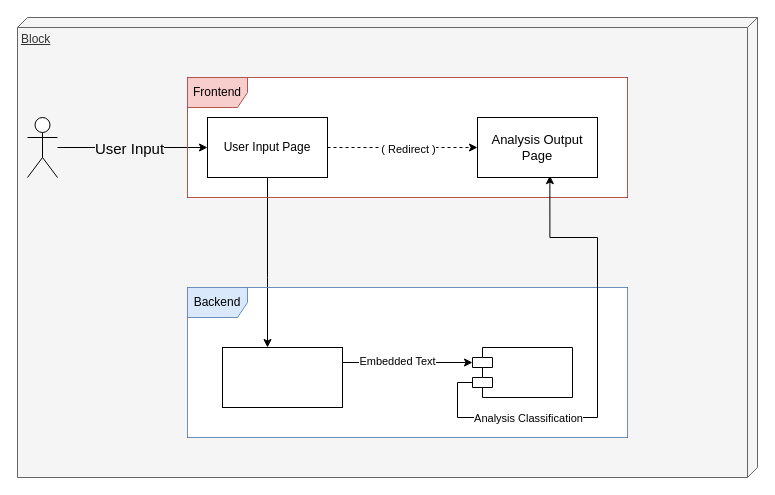
Image size: 775x495. Some labels were removed from this diagram. The centre of each missing label's shape, as x and y in pixels:
"NLP Analysis Module" goes at point (522, 372).
"Text Preprocessor" goes at point (282, 377).
"User" goes at point (42, 147).
